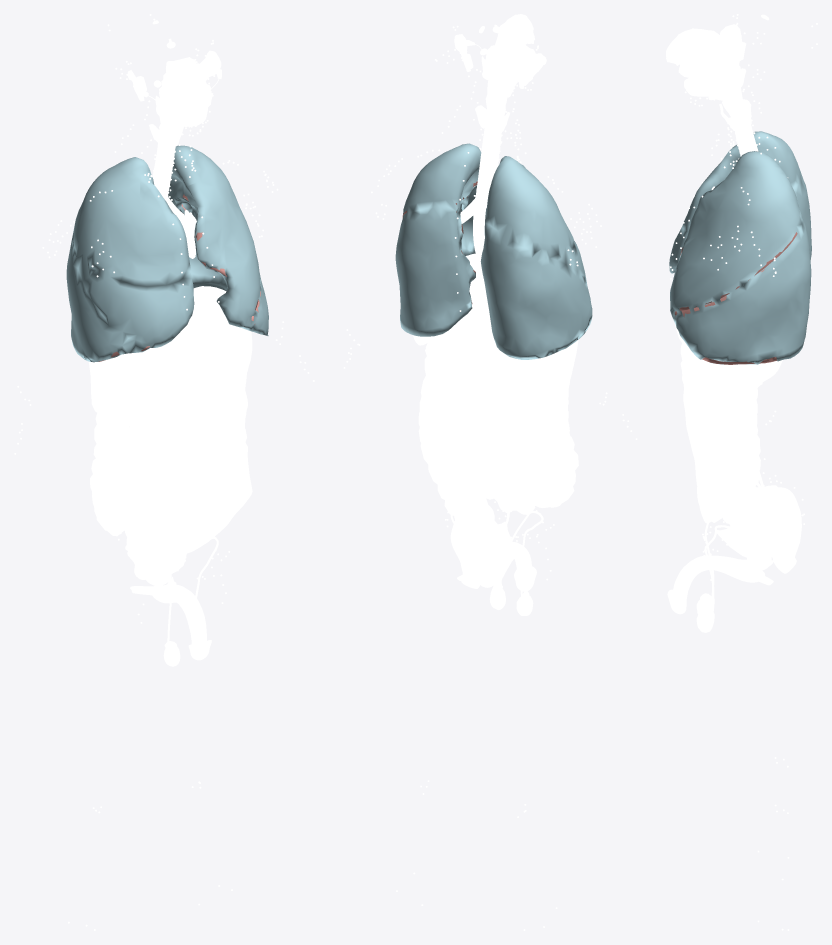
Rendered from organe.glb.
3 views of the same model, side by side, from view 1: azimuth 30°, elevation 25°; view 2: azimuth 150°, elevation 25°; view 3: azimuth 270°, elevation 25° (orthographic). The views are drawn at different scales.
Parts seen in each view (by area): view 1: Pleura, Greater omentum, Liver, Ascending colon, Stomach, Corpus cavernosum of penis, Gingiva, Mucosa of nasal cavity, Urinary bladder, Trachea; view 2: Pleura, Jejunum, Descending colon, Ascending colon, Sigmoid colon, Liver, Oesophagus, Duodenum, Free taenia, Stomach, Oropharynx, Pancreas (+9 smaller); view 3: Pleura, Descending colon, Greater omentum, Sigmoid colon, Corpus cavernosum of penis, Mucosa of nasal cavity, Urinary bladder, Spleen, Gingiva, Stomach, Mesocolic taenia, Nasopharynx (+7 smaller).
Part boxes in pixels (x1=…): Pleura: x1=66, y1=145, x2=268, y2=362; Greater omentum: x1=104, y1=356, x2=252, y2=555; Liver: x1=88, y1=286, x2=246, y2=416; Ascending colon: x1=90, y1=413, x2=128, y2=536; Stomach: x1=181, y1=330, x2=252, y2=398; Corpus cavernosum of penis: x1=130, y1=576, x2=206, y2=644; Gingiva: x1=155, y1=84, x2=210, y2=126; Mucosa of nasal cavity: x1=172, y1=57, x2=209, y2=103; Urinary bladder: x1=130, y1=543, x2=186, y2=575; Trachea: x1=154, y1=145, x2=175, y2=200; Pleura: x1=395, y1=143, x2=592, y2=359; Jejunum: x1=445, y1=362, x2=541, y2=514; Descending colon: x1=419, y1=338, x2=495, y2=531; Ascending colon: x1=530, y1=386, x2=578, y2=507; Sigmoid colon: x1=450, y1=500, x2=494, y2=588; Liver: x1=465, y1=253, x2=578, y2=395; Oesophagus: x1=473, y1=117, x2=497, y2=302; Duodenum: x1=484, y1=359, x2=535, y2=410; Free taenia: x1=437, y1=346, x2=536, y2=508; Stomach: x1=457, y1=286, x2=492, y2=333; Oropharynx: x1=485, y1=53, x2=538, y2=93; Pancreas: x1=444, y1=331, x2=523, y2=384; Pleura: x1=669, y1=131, x2=811, y2=364; Descending colon: x1=720, y1=383, x2=792, y2=533; Greater omentum: x1=680, y1=353, x2=729, y2=523; Sigmoid colon: x1=772, y1=487, x2=801, y2=573; Corpus cavernosum of penis: x1=672, y1=555, x2=773, y2=600; Mucosa of nasal cavity: x1=666, y1=28, x2=714, y2=66; Urinary bladder: x1=717, y1=528, x2=778, y2=559; Spleen: x1=721, y1=360, x2=782, y2=386; Gingiva: x1=678, y1=62, x2=723, y2=96; Stomach: x1=680, y1=341, x2=718, y2=379; Mesocolic taenia: x1=732, y1=384, x2=776, y2=521; Nasopharynx: x1=713, y1=31, x2=740, y2=67.
Bounding box in the file's own units: 0.4523 × 1.3 × 0.2014.
